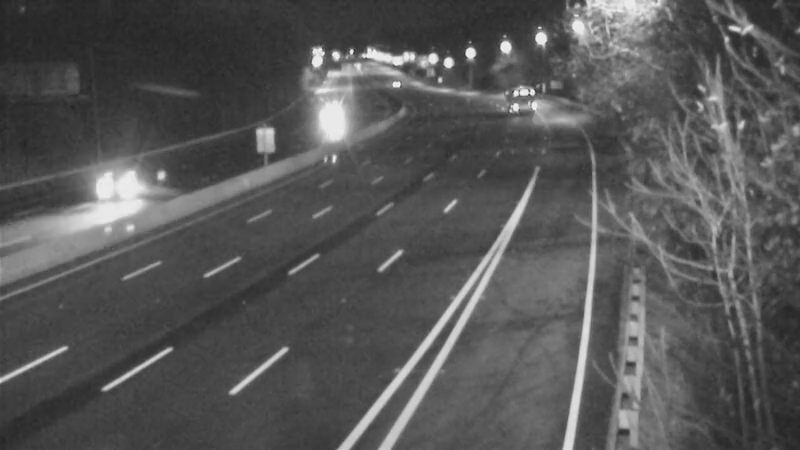vehicle: (85, 146, 165, 226), (370, 57, 420, 107), (489, 71, 539, 121), (306, 89, 356, 139)
